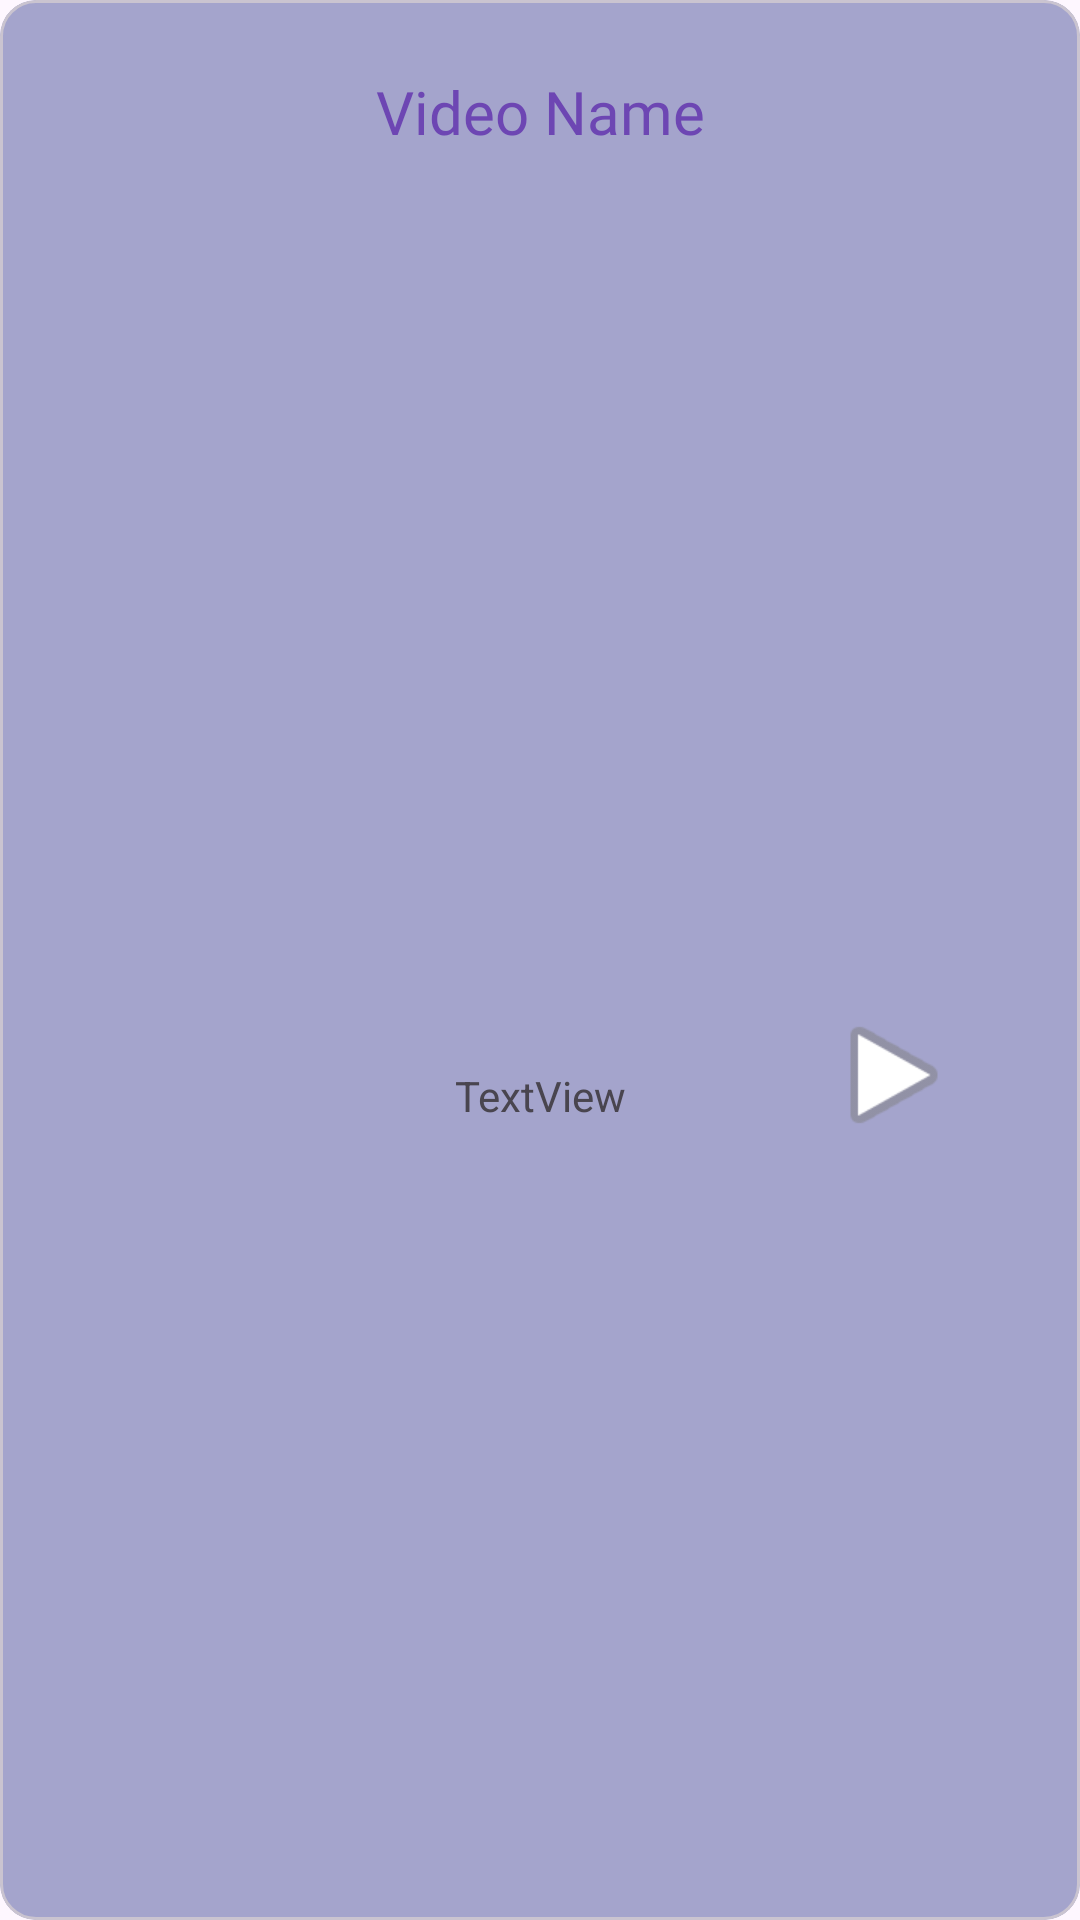

Named icons in this screenshot (1080×1920) and their bounding boxes, (x1, y1, x2, y2):
play: (851, 1027, 937, 1123)
